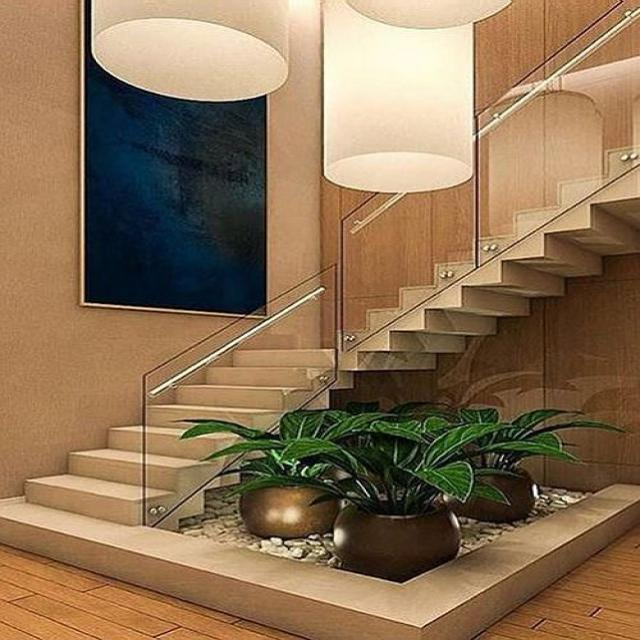stairs: (0, 161, 639, 638)
